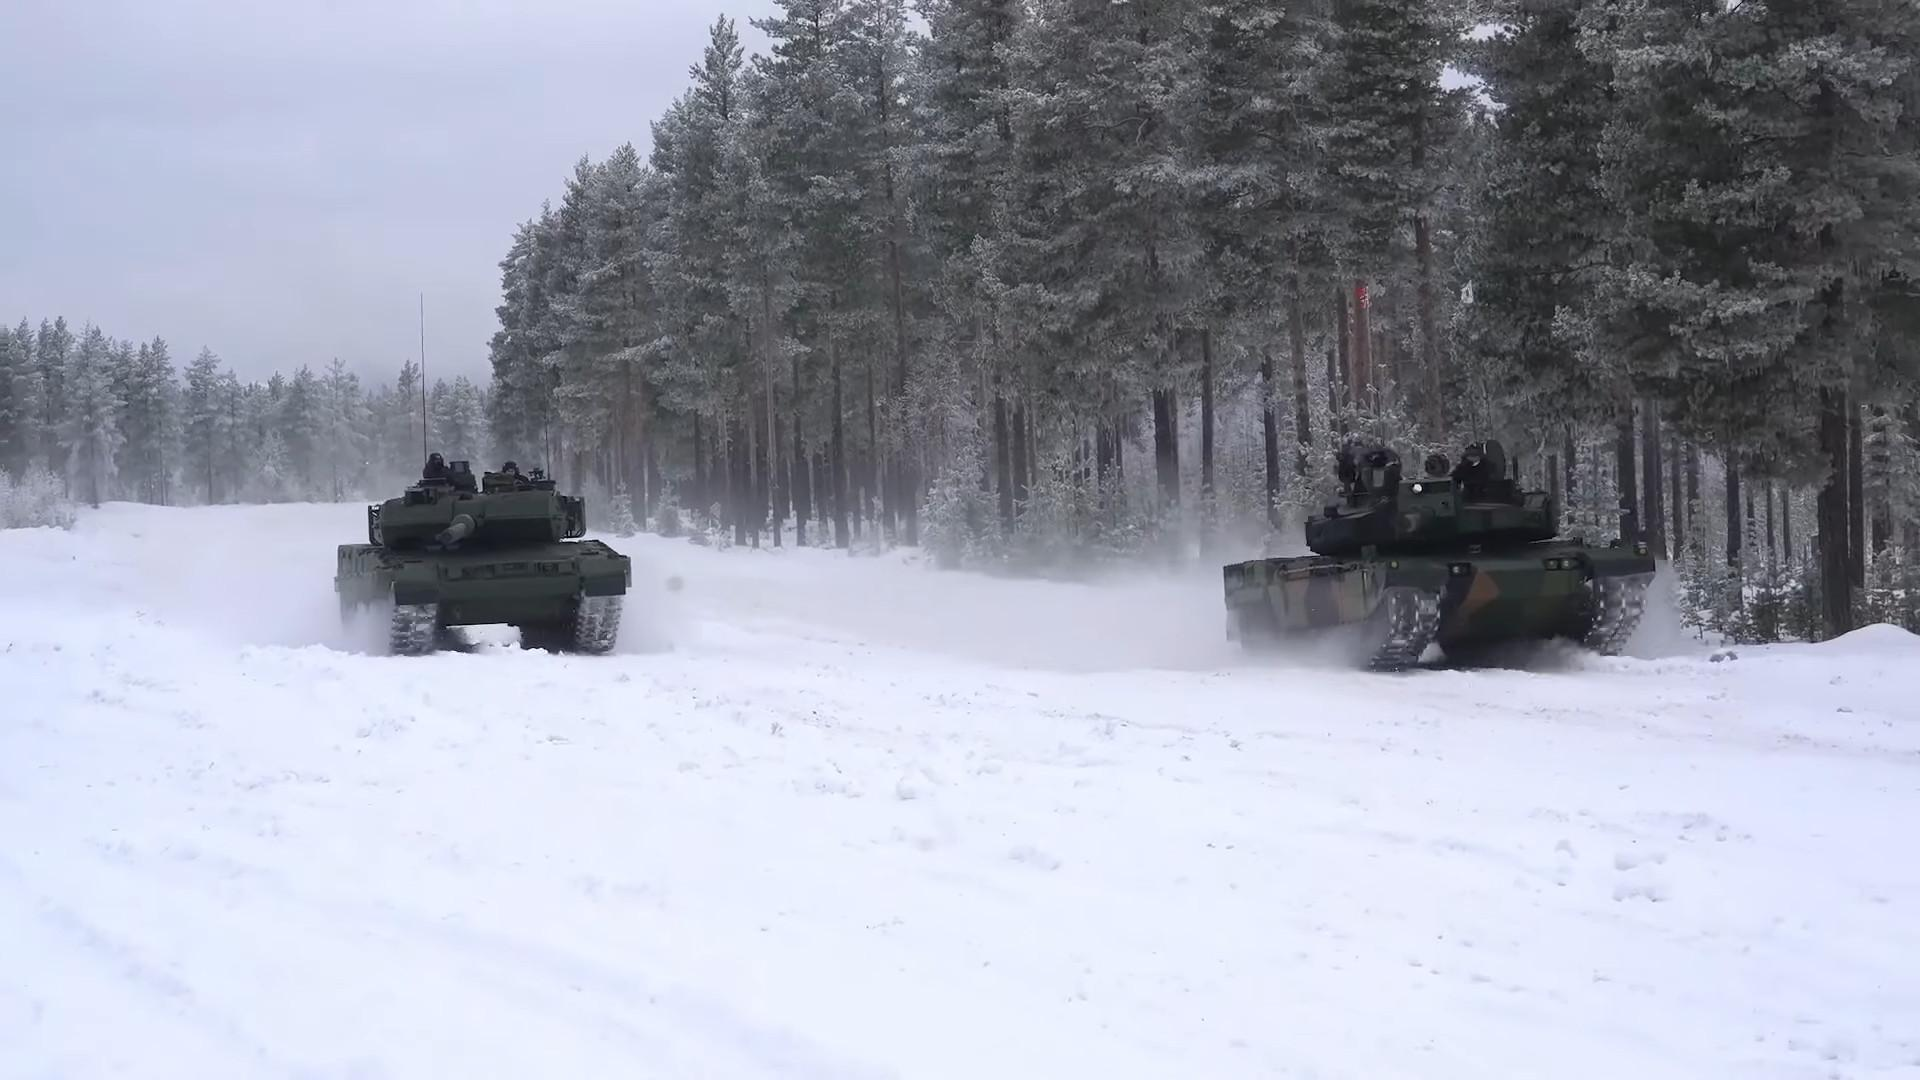tank: (1224, 439, 1656, 670), (334, 462, 632, 659)
